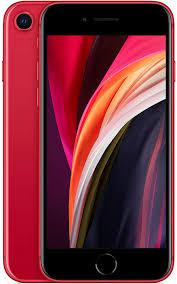Smartphone: (37, 2, 172, 276), (7, 2, 71, 284)
